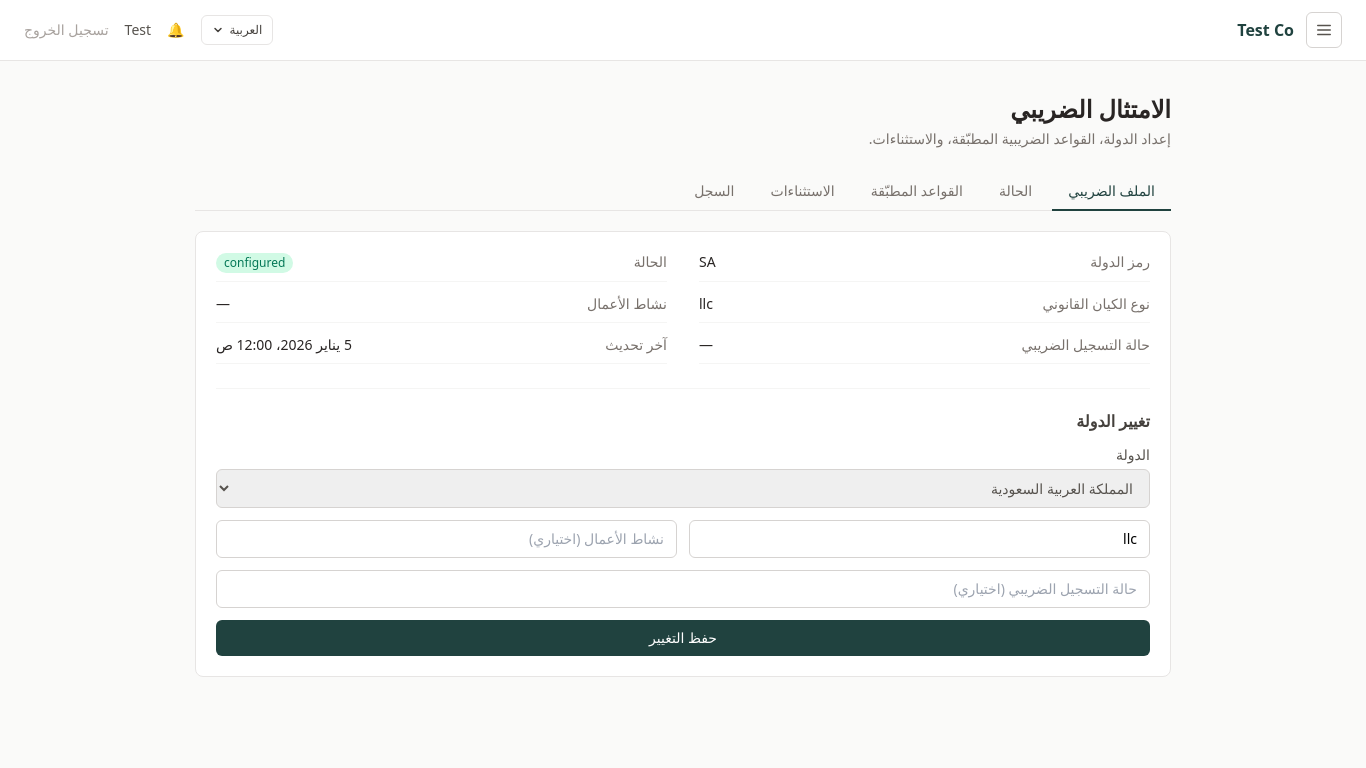
Test case: <Compliance/> — Status › 7. renders the server-provided status verbatim, never derived client-side
Expected: the text "رمز الدولة" is shown, [1090,252,1150,272]
Step 1. Click the tab "الحالة" → x=1016, y=192, box [983,173,1048,211]
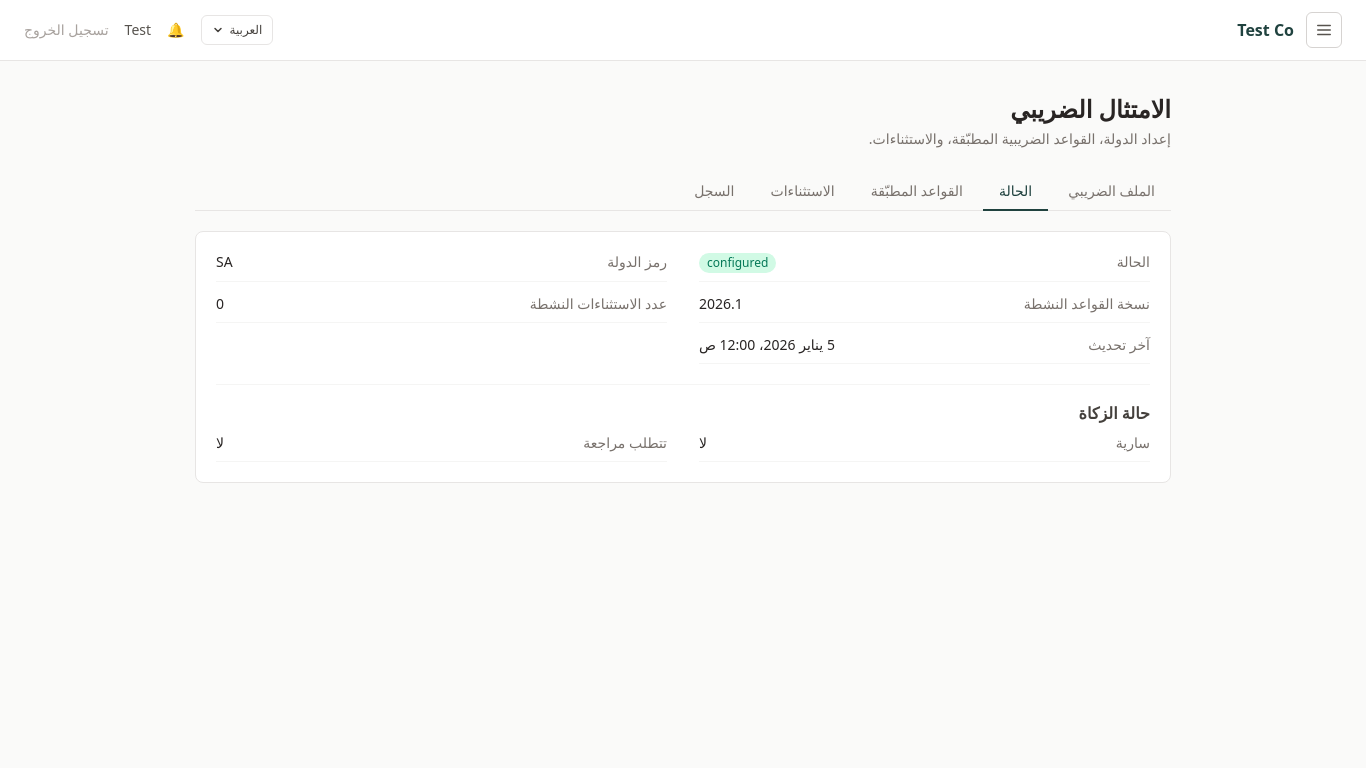
Expected: the text "configured" is shown, [699,253,776,273]
Expected: the text "2026.1" is shown, [699,294,743,314]
